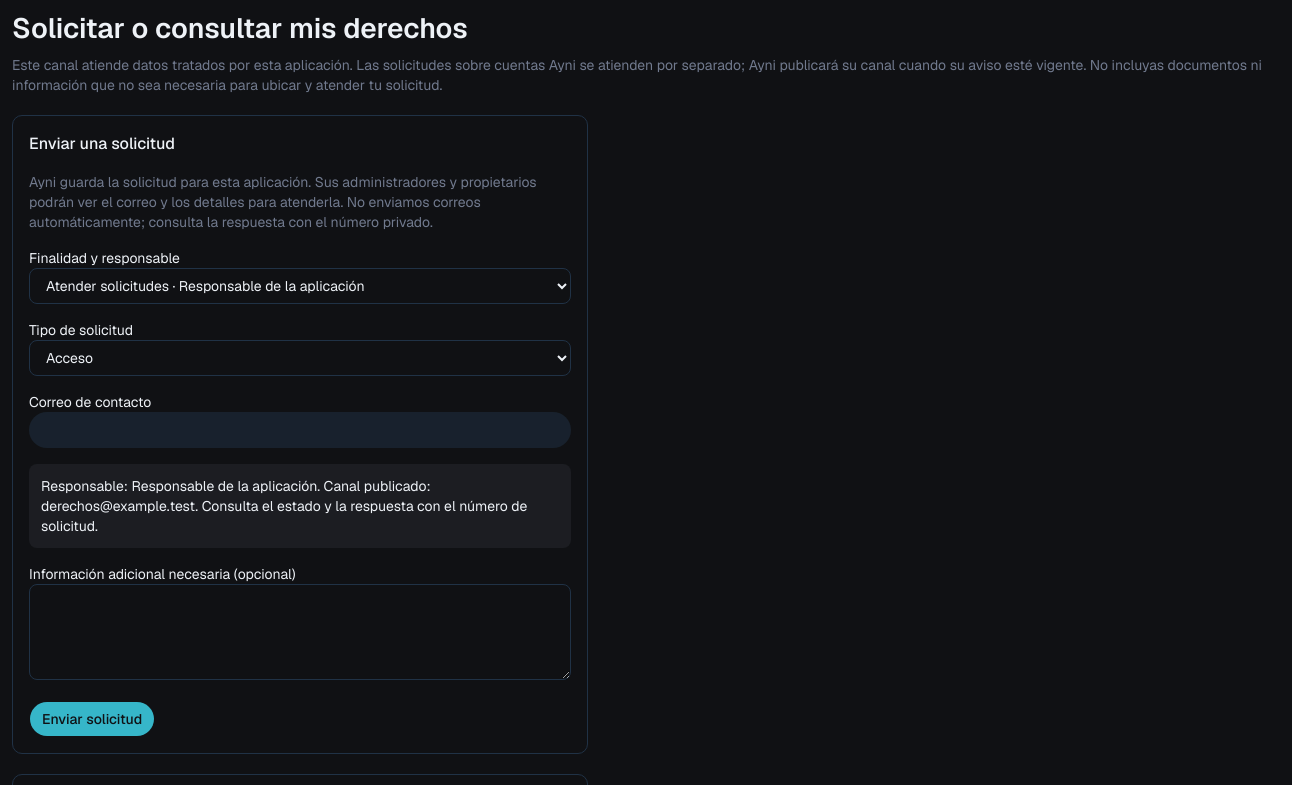
Test case: US-156 public rights request form › routes requests to the selected client treatment and lets the holder check status
The image size is (1292, 785).
Expected: the text "No enviamos correos automáticamente" is shown, 29,173 -> 537,231
Expected: the text "Canal publicado: derechos@example.test" is shown once, 29,464 -> 571,548
In the field labelled "Correo de contacto": (300,430) 29,412 -> 571,448, type "titular@example.test"
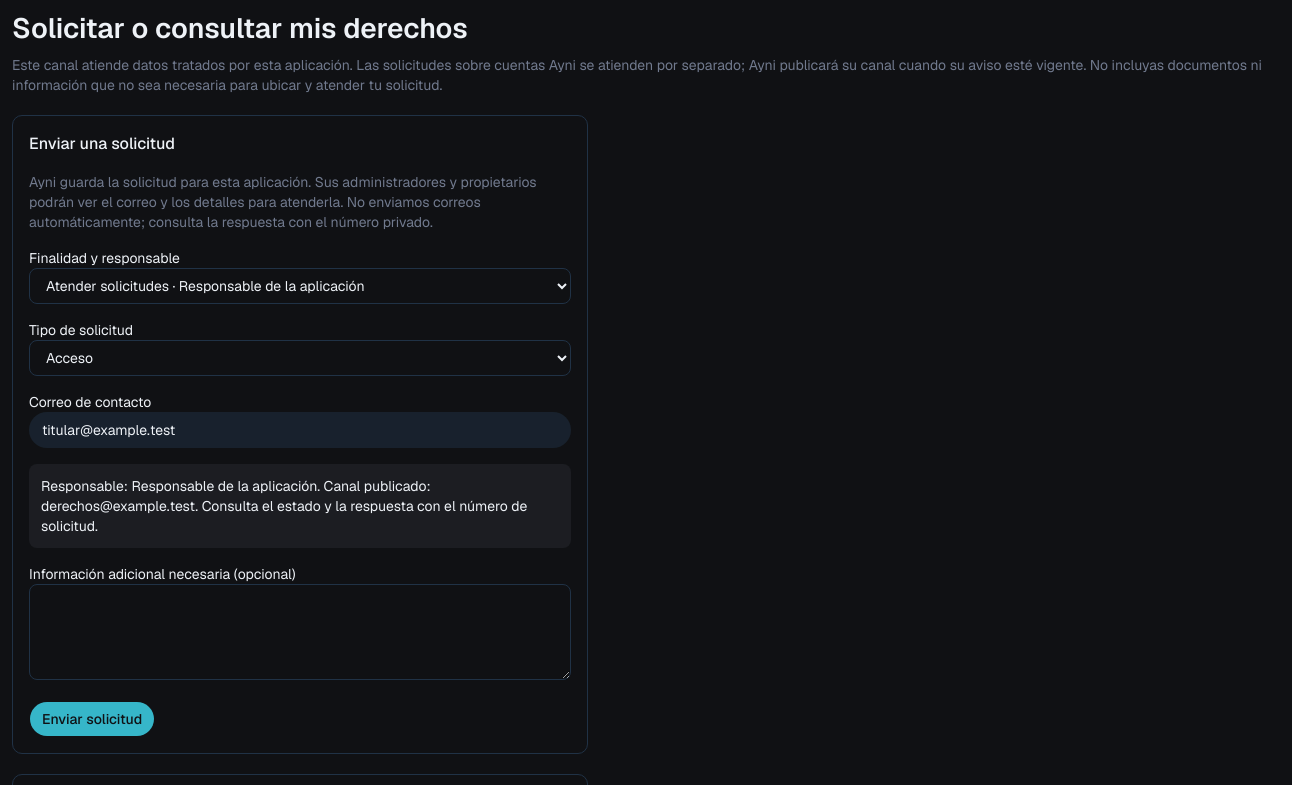
Click the button "Enviar solicitud": (92,719) 29,701 -> 155,737
(page scrolled)
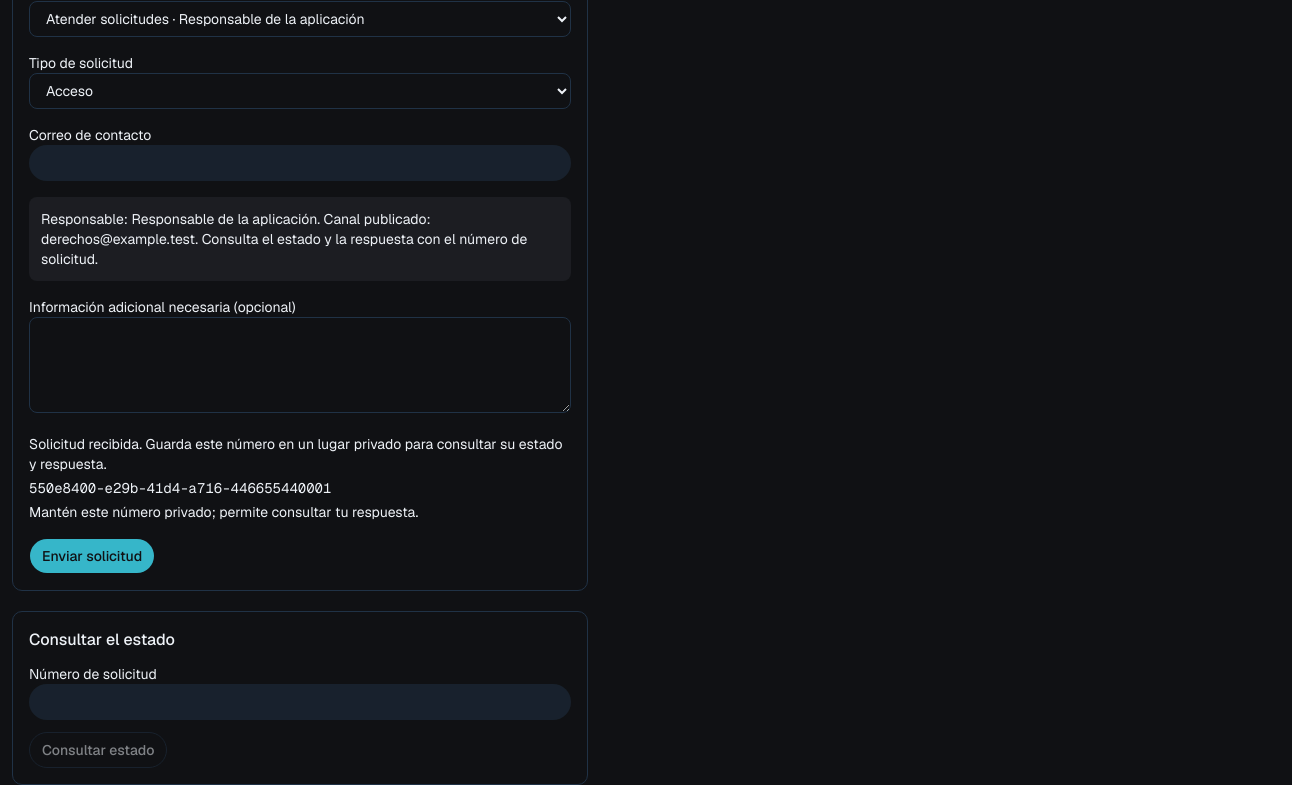
Result: the text "550e8400-e29b-41d4-a716-446655440001" is shown at 29,479 -> 331,497
In the field labelled "Número de solicitud": (300,702) 29,684 -> 571,720, type "550e8400-e29b-41d4-a716-446655440001"
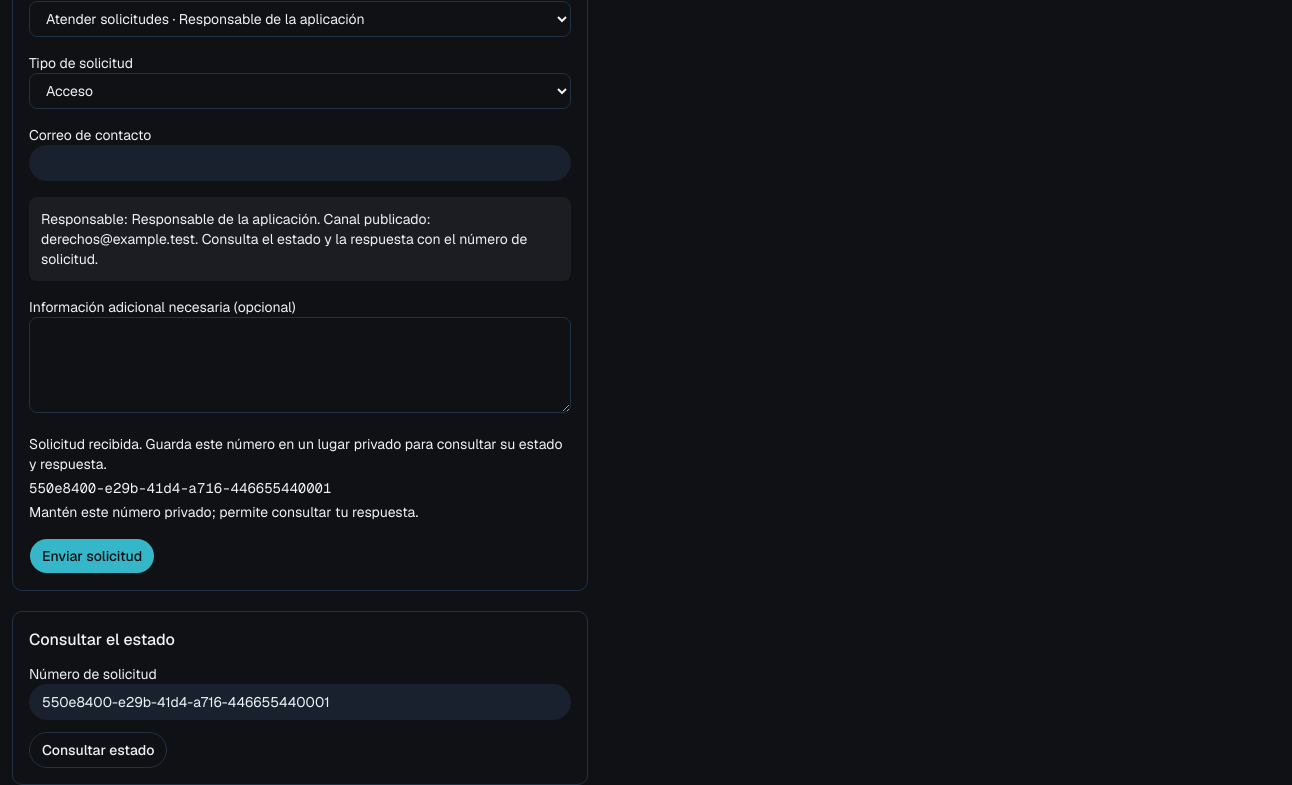
Click the button "Consultar estado": (98,750) 29,732 -> 167,768
(page scrolled)
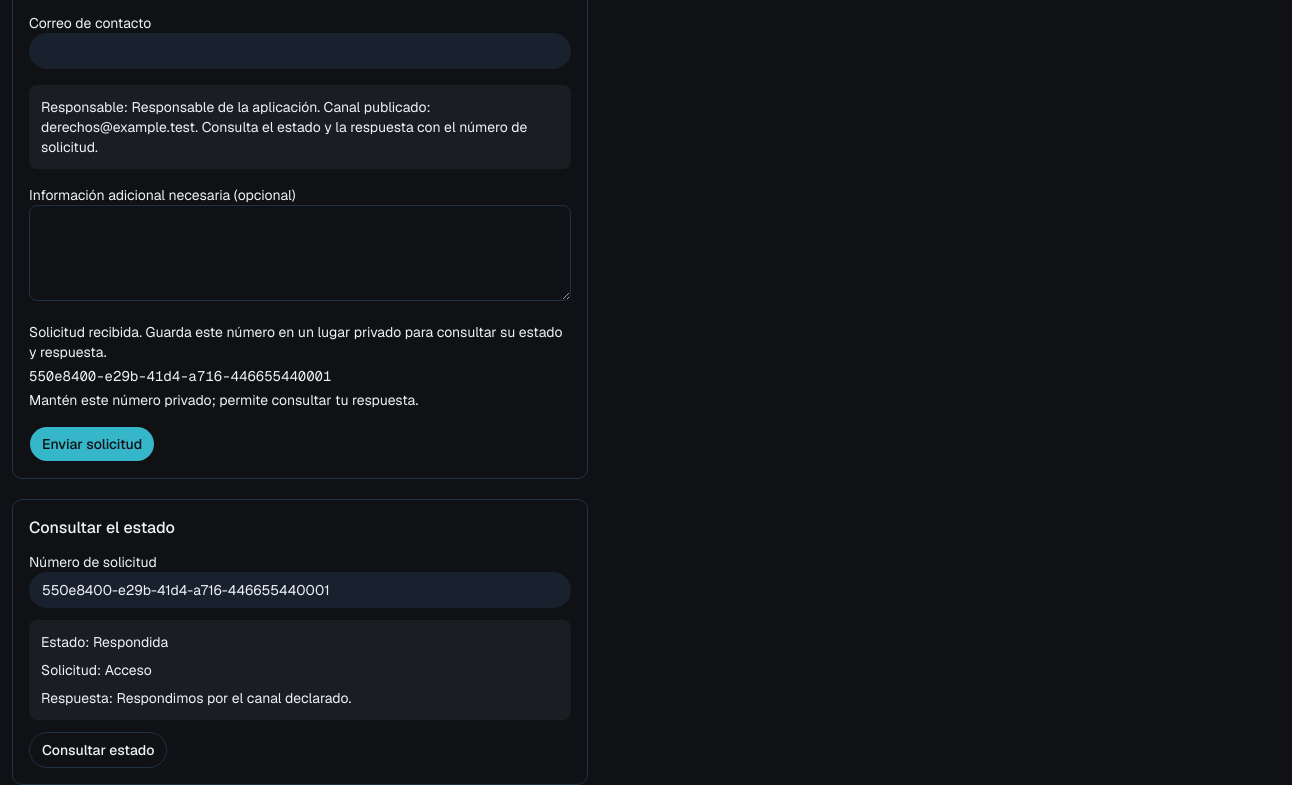
Result: the text "Respuesta: Respondimos por el canal declarado." is shown at 41,689 -> 351,707
